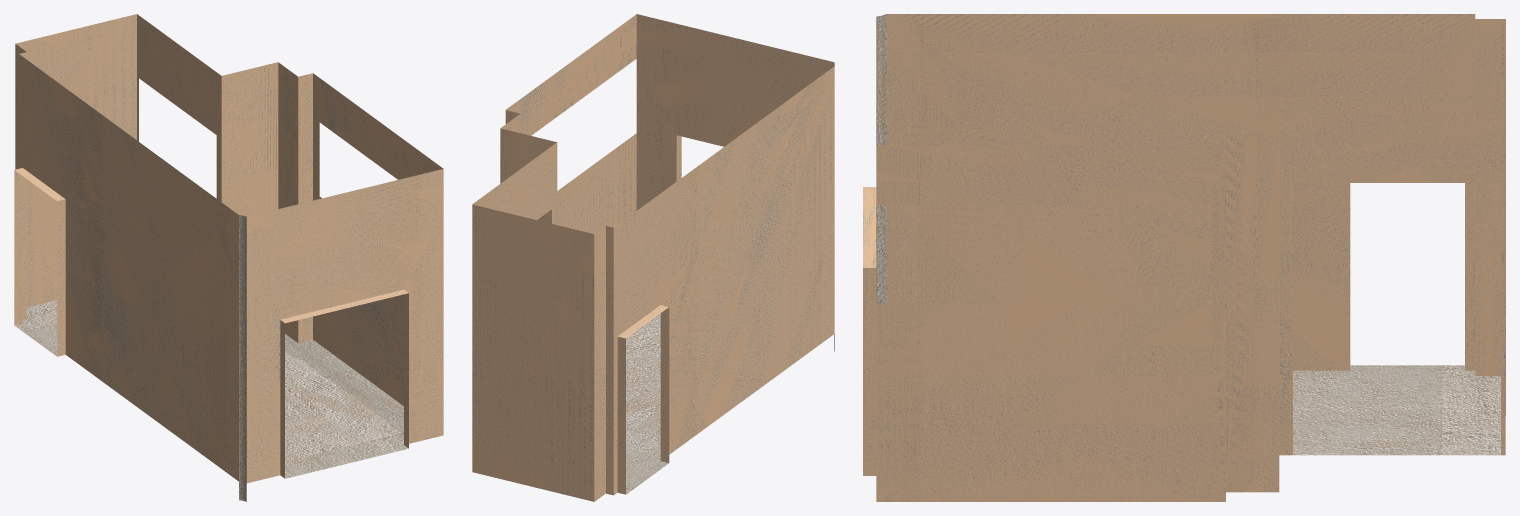
The model's file is COM027.obj.
3 views of the same model, side by side, from view 1: azimuth 30°, elevation 25°; view 2: azimuth 150°, elevation 25°; view 3: azimuth 270°, elevation 25° (orthographic). The views are drawn at different scales.
Parts seen in each view (by area): view 1: Mesh1 COM027 Model; view 2: Mesh1 COM027 Model; view 3: Mesh1 COM027 Model.
Part boxes in pixels (x1=…): Mesh1 COM027 Model: x1=14, y1=14, x2=443, y2=501; Mesh1 COM027 Model: x1=472, y1=14, x2=834, y2=501; Mesh1 COM027 Model: x1=863, y1=14, x2=1505, y2=501.
Size of the model in its own units: 2.96 by 3.85 by 5.88.
4 materials, 2 textured.
